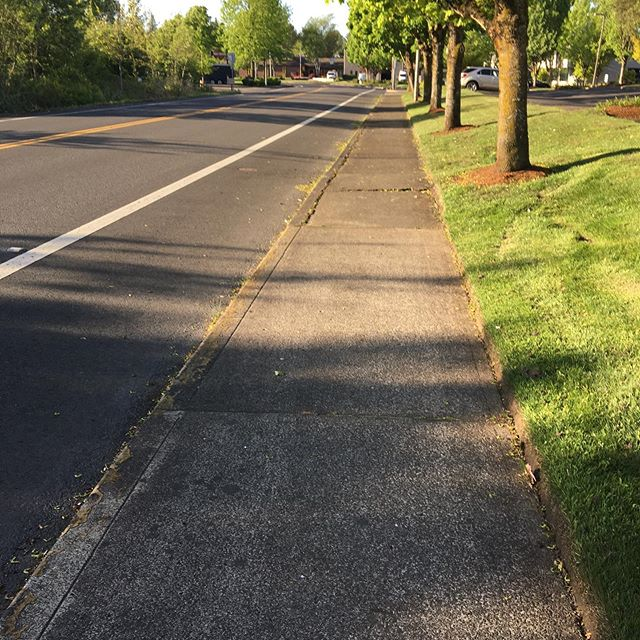grass: (426, 89, 637, 592)
sidewalk: (117, 96, 564, 634)
street: (1, 82, 372, 495)
tree: (426, 1, 558, 173), (351, 1, 471, 122), (103, 10, 203, 97), (222, 1, 291, 73)
